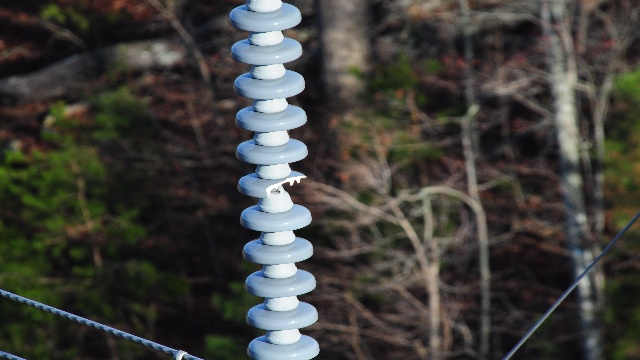broken_local: (263, 173, 309, 199)
insulator_unspecified: (226, 4, 321, 359)
